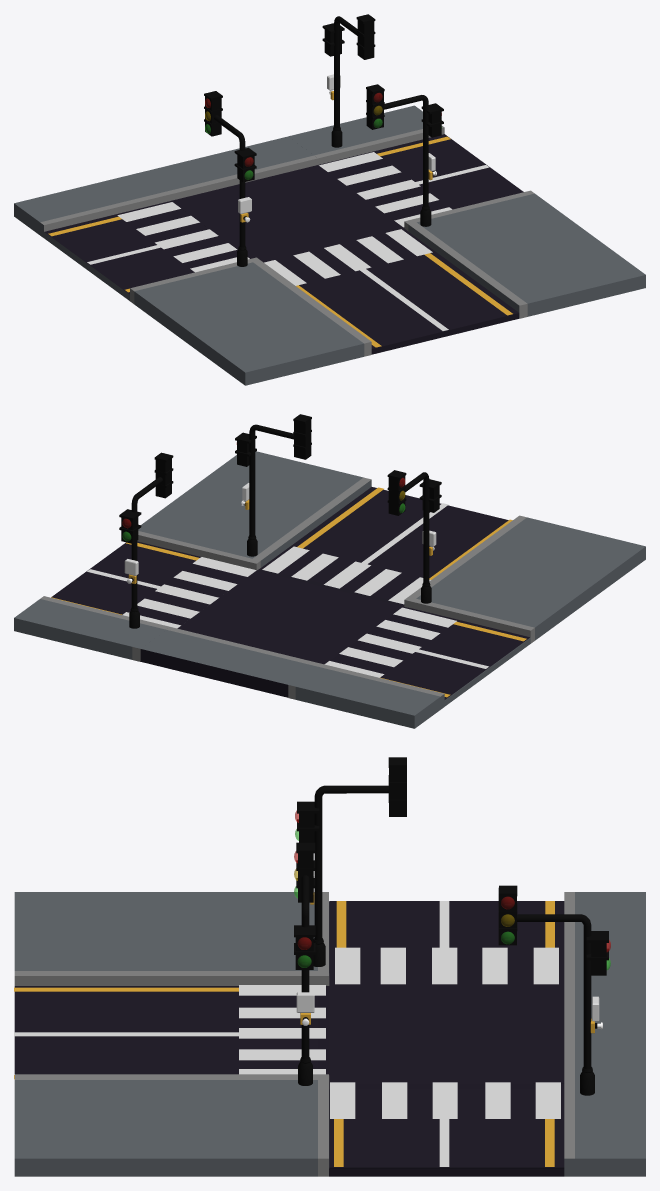
Rendered from Level_2.glb.
3 views of the same model, one above another, from view 1: azimuth 30°, elevation 25°; view 2: azimuth 150°, elevation 25°; view 3: azimuth 270°, elevation 25° (orthographic). The views are drawn at different scales.
Parts seen in each view (by area): view 1: Level_2, Cylinder, Cylinder.002, Cylinder.006, Plane.013, Plane.002, Plane.021, Plane.018, Plane.017, Plane.020, Plane.022, Plane.006 (+5 smaller); view 2: Level_2, Cylinder, Cylinder.006, Cylinder.002, Plane.013, Plane.016, Plane.017, Plane.020, Plane.021, Plane.022, Plane.023, Plane.003 (+6 smaller); view 3: Level_2, Cylinder.002, Cylinder.006, Cylinder, Plane.001, Plane.002, Plane.020, Plane.006, Plane.021, Plane.022, Plane.023, Plane.003 (+8 smaller).
Part boxes in pixels (left/top/right/bottom): Level_2: left=14, top=105, right=645, bottom=385; Cylinder: left=384, top=95, right=431, bottom=226; Cylinder.002: left=331, top=16, right=357, bottom=147; Cylinder.006: left=214, top=115, right=247, bottom=266; Plane.013: left=424, top=253, right=512, bottom=315; Plane.002: left=360, top=269, right=448, bottom=330; Plane.021: left=155, top=229, right=218, bottom=249; Plane.018: left=337, top=165, right=401, bottom=185; Plane.017: left=357, top=179, right=420, bottom=199; Plane.020: left=136, top=215, right=199, bottom=235; Plane.022: left=173, top=243, right=237, bottom=262; Plane.006: left=117, top=202, right=180, bottom=221; Level_2: left=14, top=451, right=645, bottom=728; Cylinder: left=247, top=424, right=293, bottom=556; Cylinder.006: left=405, top=472, right=431, bottom=603; Cylinder.002: left=129, top=477, right=162, bottom=628; Plane.013: left=297, top=487, right=383, bottom=548; Plane.016: left=173, top=571, right=237, bottom=590; Plane.017: left=155, top=584, right=218, bottom=604; Plane.020: left=339, top=647, right=402, bottom=667; Plane.021: left=358, top=633, right=421, bottom=653; Plane.022: left=376, top=620, right=440, bottom=639; Plane.023: left=393, top=607, right=456, bottom=627; Plane.003: left=193, top=557, right=256, bottom=576; Level_2: left=14, top=892, right=645, bottom=1176; Cylinder.002: left=517, top=914, right=594, bottom=1095; Cylinder.006: left=313, top=785, right=388, bottom=966; Cylinder: left=298, top=875, right=312, bottom=1085; Plane.001: left=14, top=987, right=238, bottom=991; Plane.002: left=14, top=1032, right=238, bottom=1036; Plane.020: left=482, top=947, right=507, bottom=984; Plane.006: left=533, top=947, right=558, bottom=984; Plane.021: left=432, top=947, right=457, bottom=984; Plane.022: left=380, top=947, right=405, bottom=984; Plane.023: left=335, top=947, right=360, bottom=984; Plane.003: left=330, top=1082, right=355, bottom=1118.
Size of the model in its own units: 8.03 by 3.1 by 8.04.
